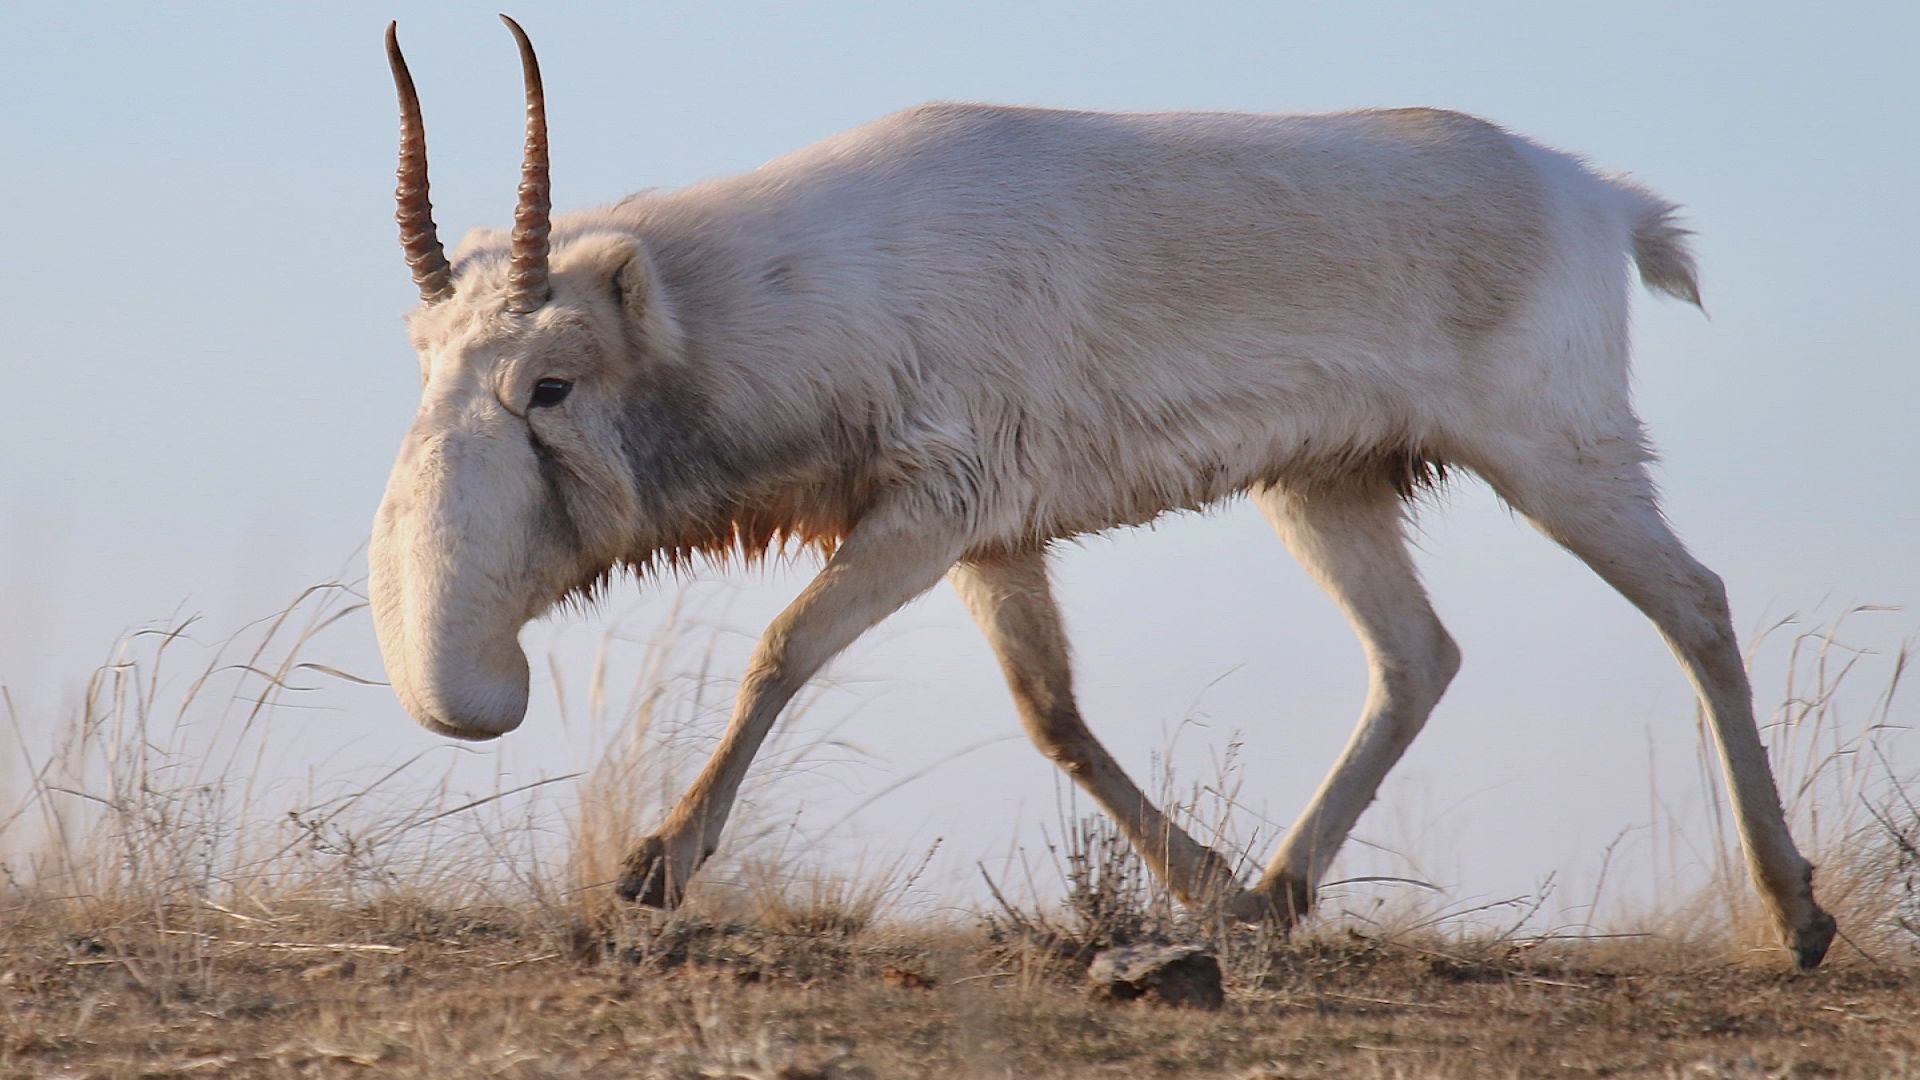saiga: (363, 12, 1845, 964)
